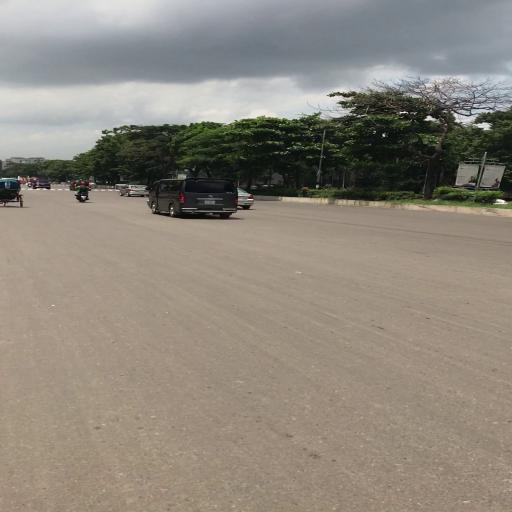car: (239, 187, 255, 212), (120, 186, 147, 198)
motorbike: (77, 183, 91, 204), (27, 181, 33, 189)
rickshaw: (3, 179, 25, 210)
suv: (33, 180, 52, 191)
van: (146, 179, 239, 220)
